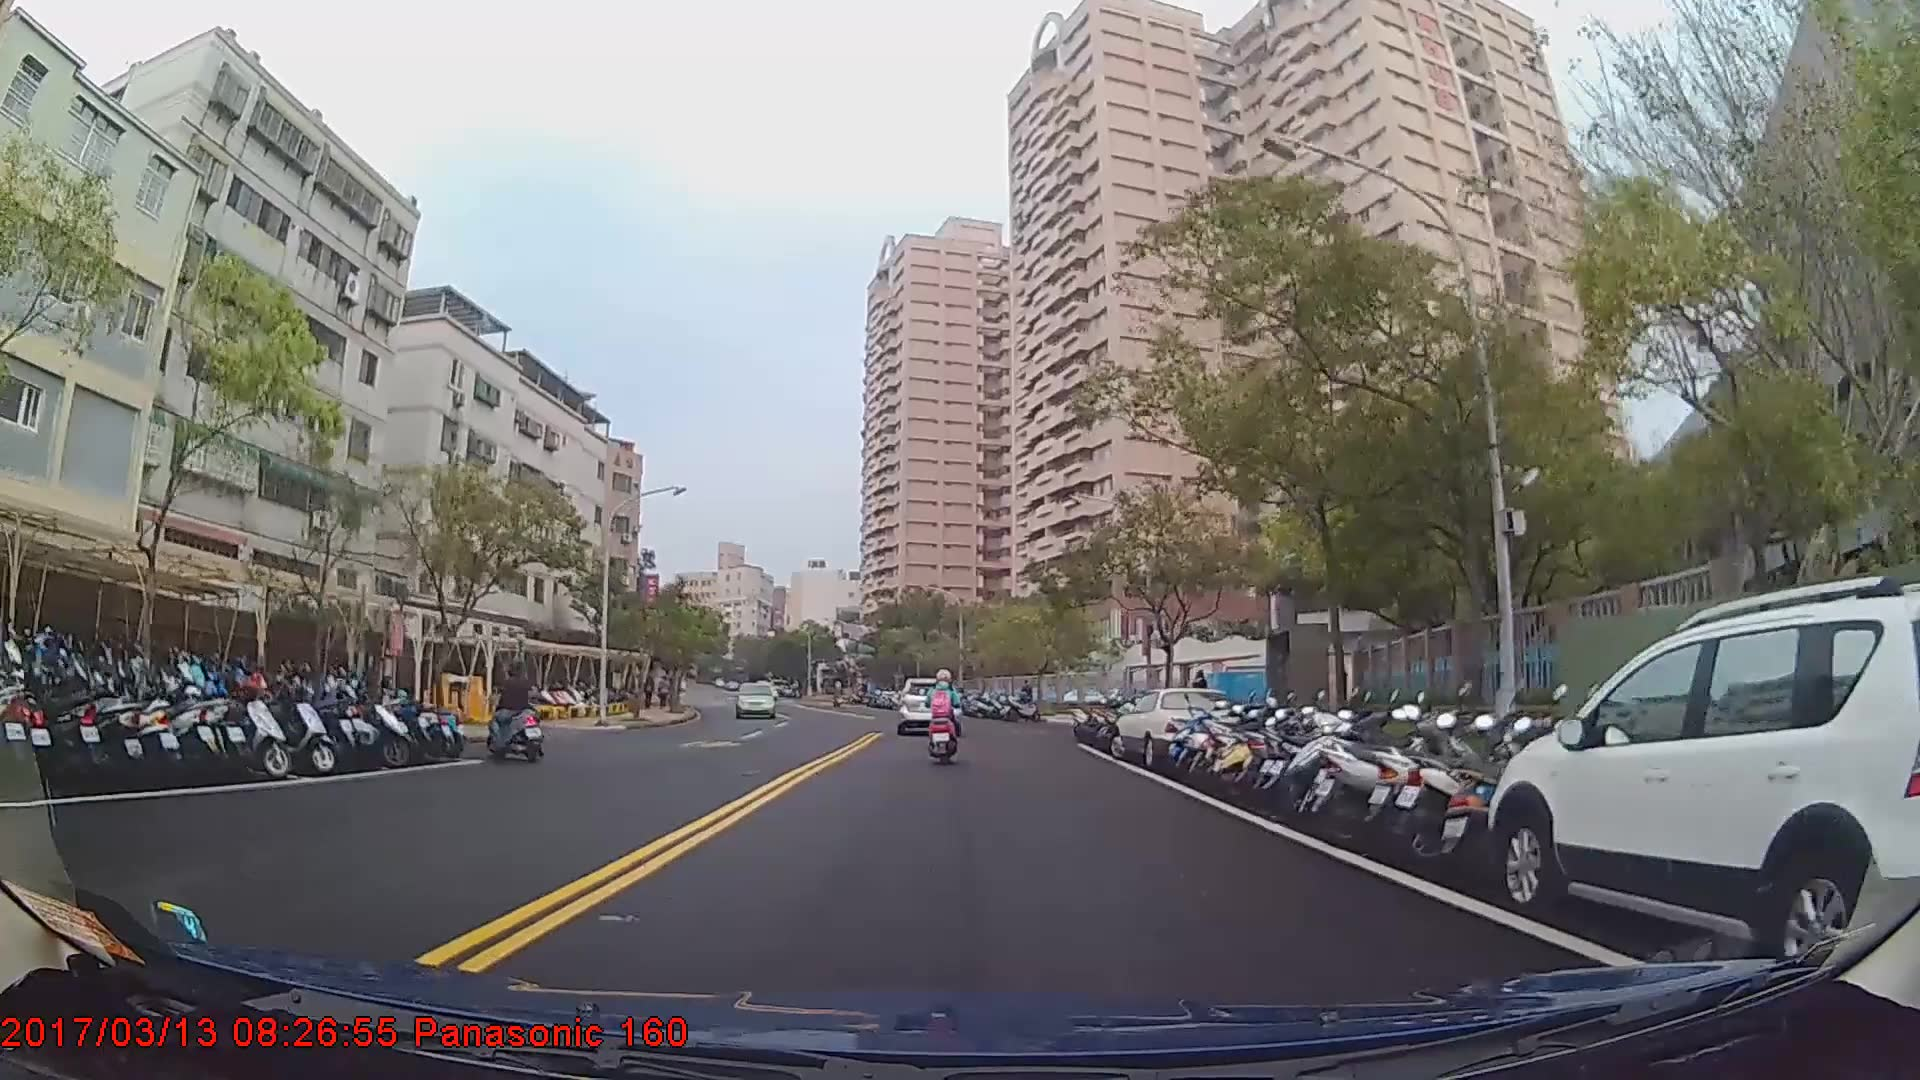pedestrian: (1191, 671, 1212, 724)
rider: (482, 658, 546, 766), (923, 669, 963, 769)
vehicle: (1484, 573, 1920, 982), (1109, 688, 1240, 770), (892, 674, 959, 732), (732, 681, 778, 719)
